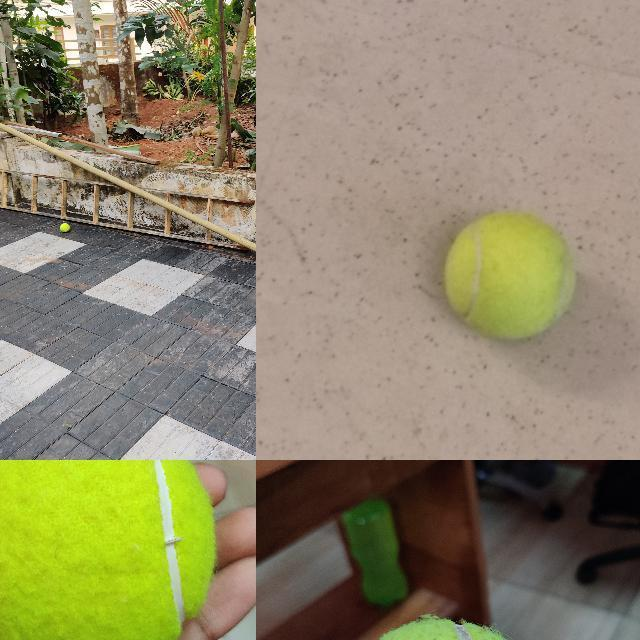tennis-ball: (0, 460, 214, 639), (443, 211, 576, 340), (59, 223, 69, 232)
